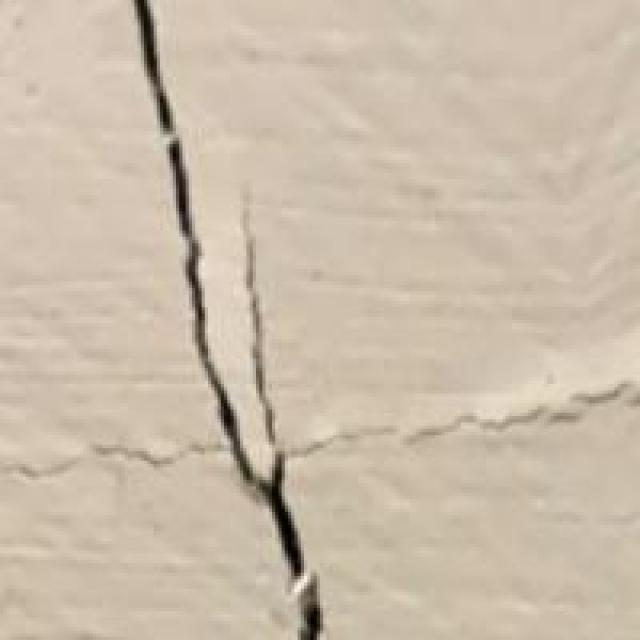crack: (74, 0, 396, 637)
